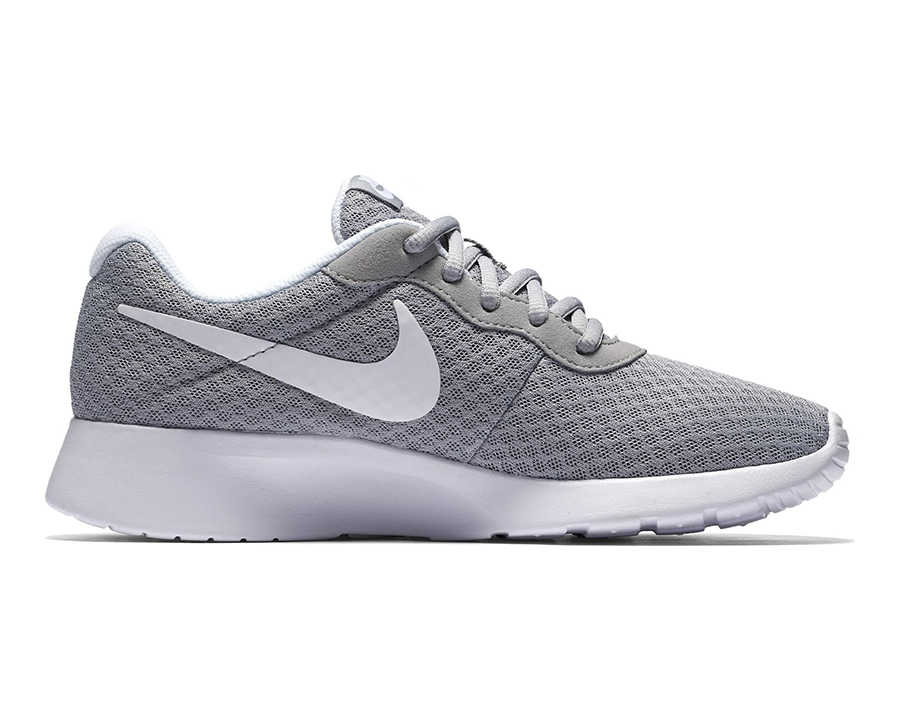nike: (104, 292, 445, 426)
